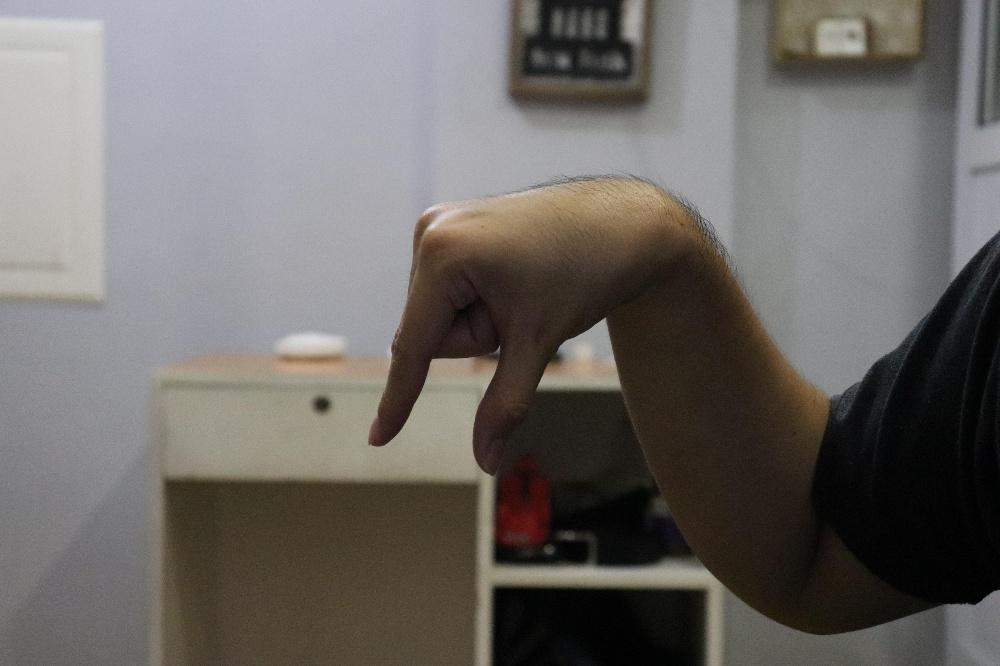q: (367, 174, 660, 475)
